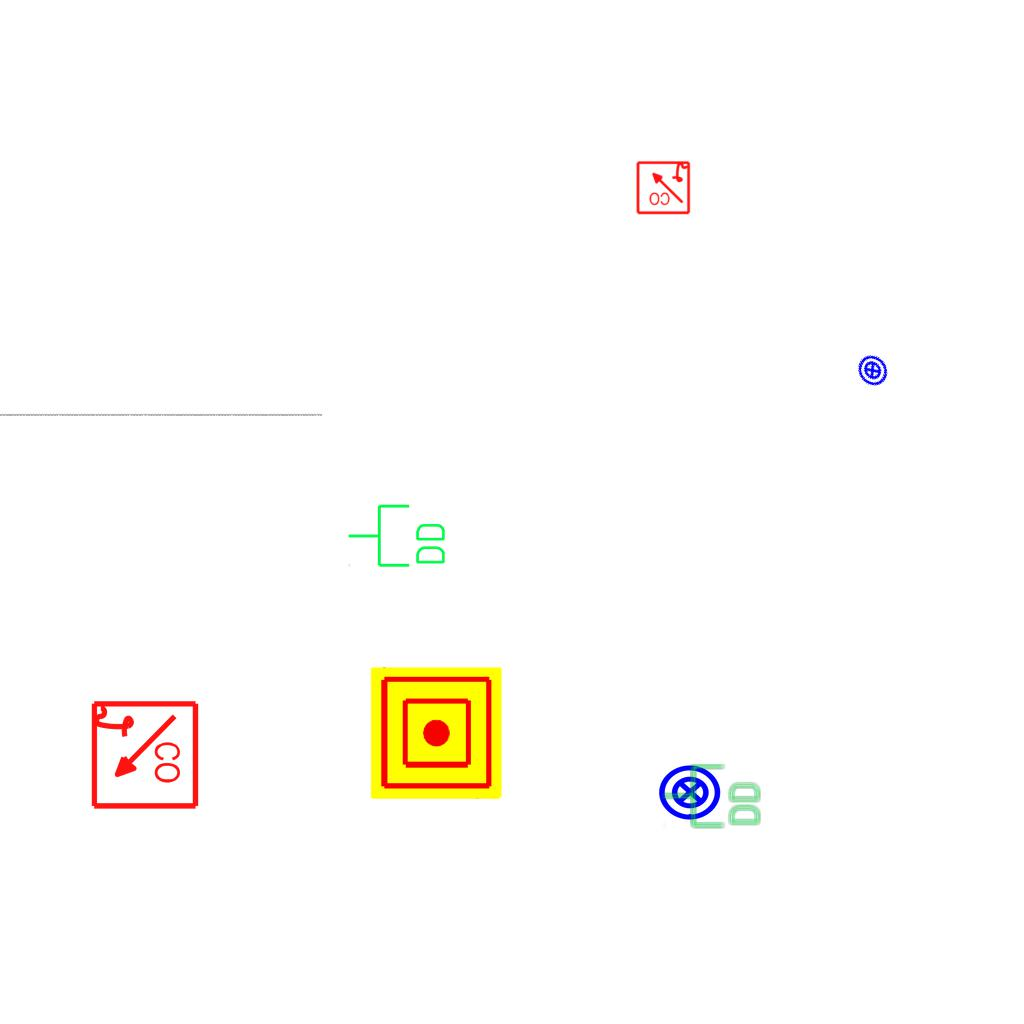Datenanschluss_zweifach: (346, 502, 449, 571), (660, 762, 763, 831)
NAM-Nichtautomatischer_Melder: (370, 667, 502, 799)
ROA_Rauchmelder_optisch_mit_Signalgeber_(Sockelsirene): (87, 699, 200, 812), (635, 159, 691, 215)
Taster_beleuchtet: (657, 759, 723, 825), (849, 347, 896, 394)
